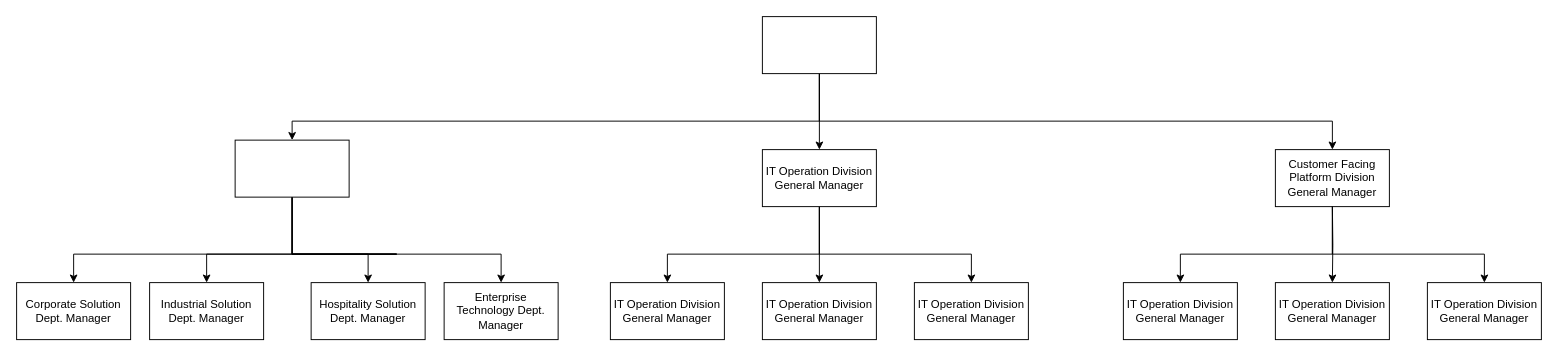
Image size: 1558x356. Some labels were removed from this diagram. The shapes that lost their labels are listed below. From the top down, each one's box as (x1, y1, x2, y2) in pixels, then its label:
(761, 16, 876, 74): Corporate IT & IS Director
(234, 139, 349, 197): Enterprise Solution Division General Manager
